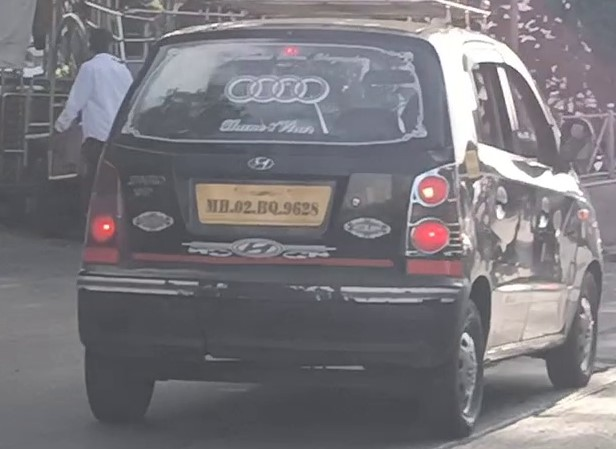MH02BQ9628: (192, 183, 332, 226)
